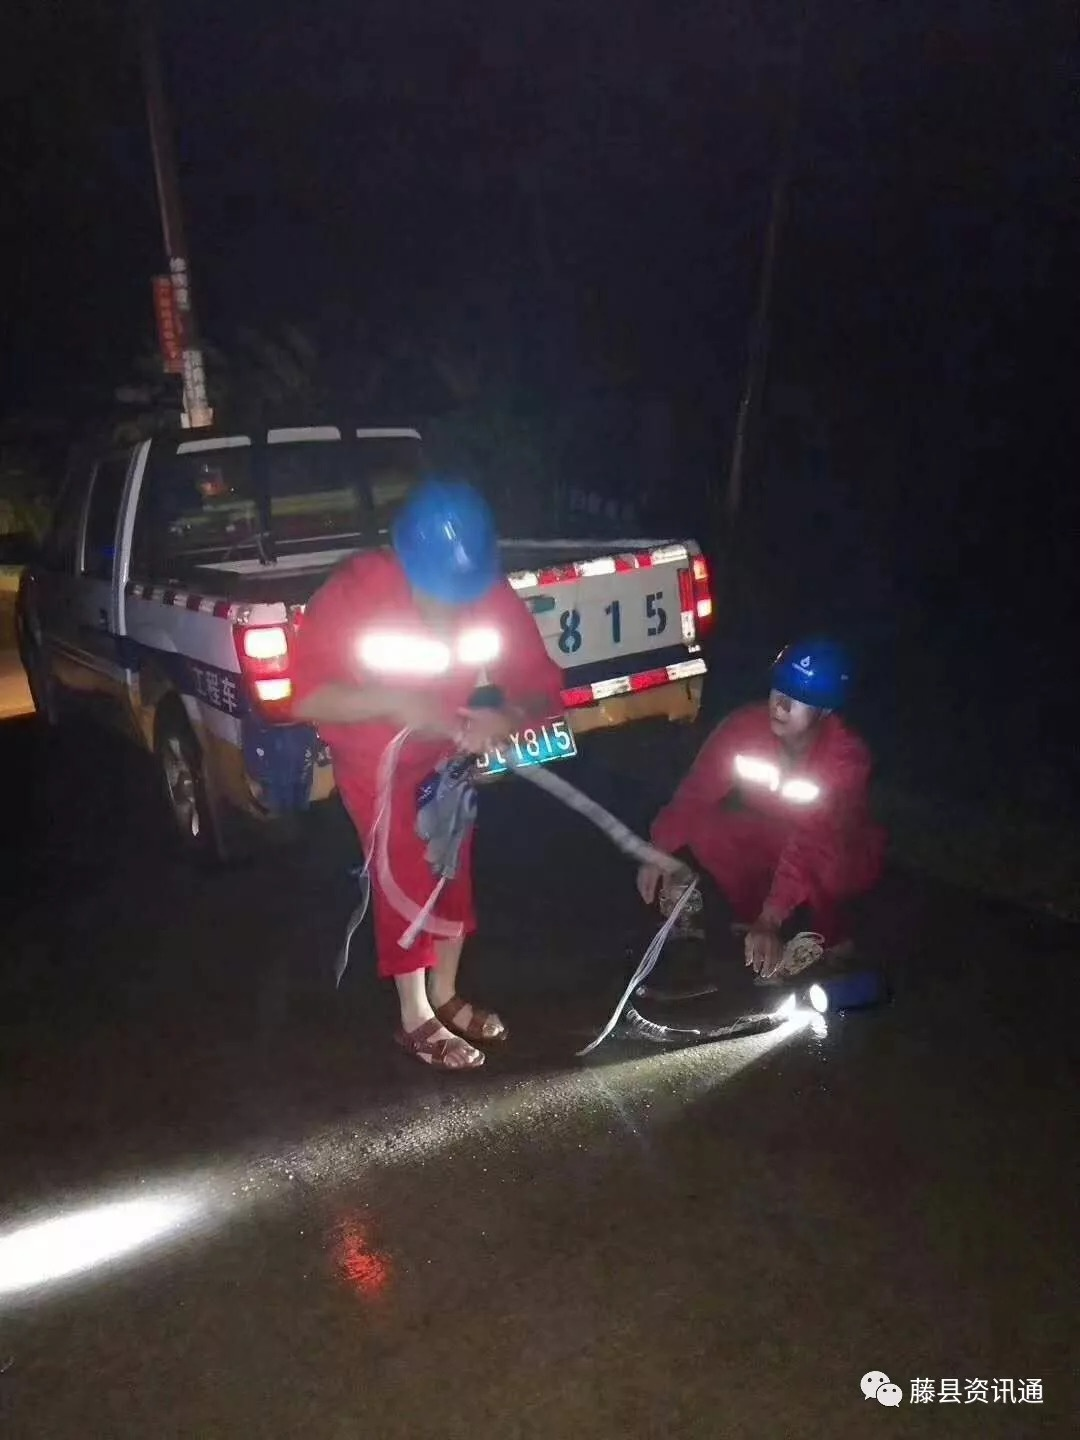blue: (383, 481, 500, 611), (756, 629, 852, 738)
